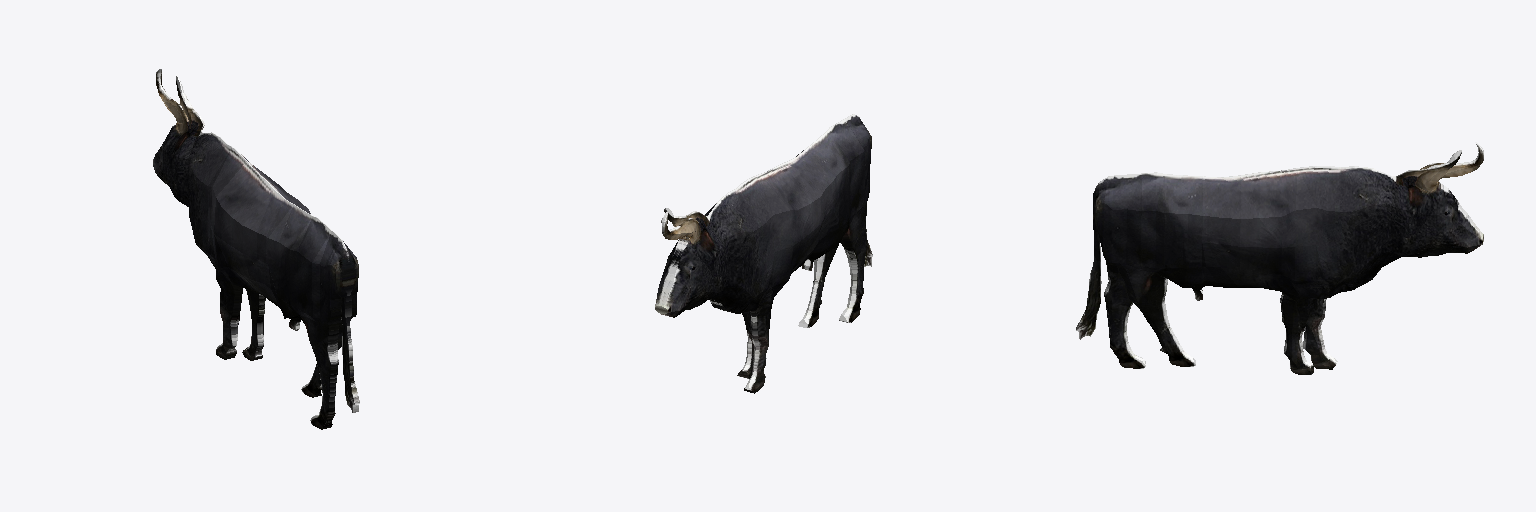
The picture shows the model from 3 angles: view 1: azimuth 30°, elevation 25°; view 2: azimuth 150°, elevation 25°; view 3: azimuth 270°, elevation 25°; orthographic projection.
Visible parts, largest first — view 1: Cube; view 2: Cube; view 3: Cube.
Part boxes in pixels (x1,y1,x2,y2): Cube: (153, 69, 359, 429); Cube: (655, 114, 872, 393); Cube: (1076, 142, 1483, 374).
Size of the model in its own units: 0.6049 by 1.93 by 3.11.
1 materials, 1 textured.